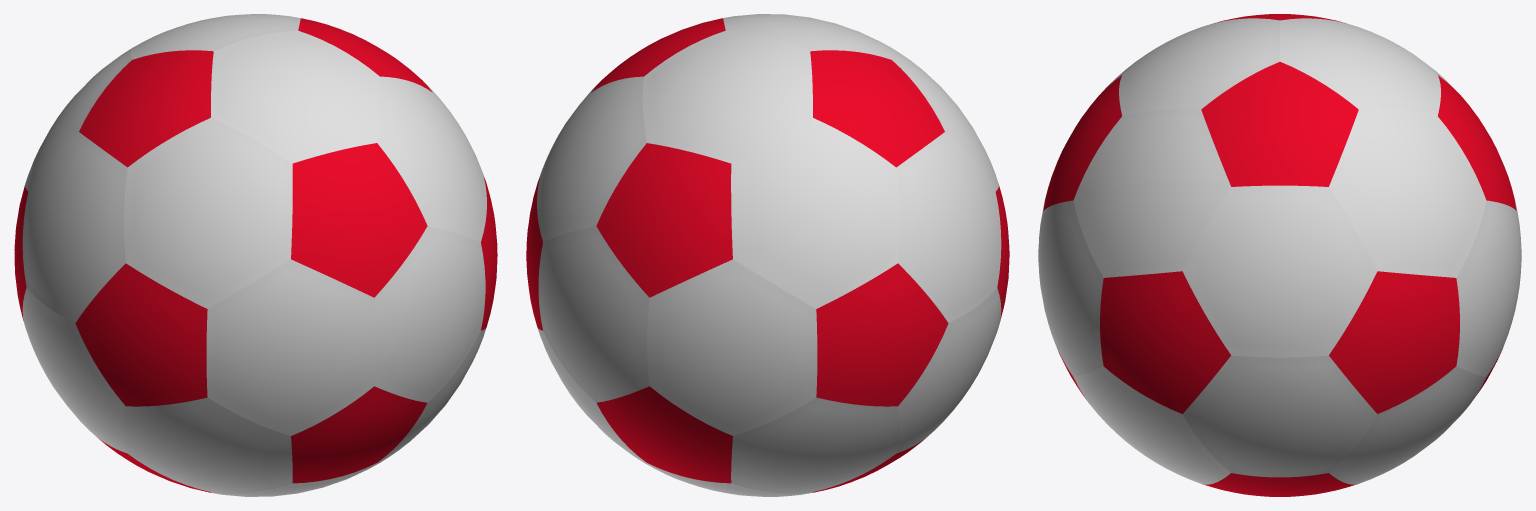
The model's file is football_2.glb.
The picture shows the model from 3 angles, left to right: view 1: azimuth 30°, elevation 25°; view 2: azimuth 150°, elevation 25°; view 3: azimuth 270°, elevation 25°; orthographic projection.
Visible parts, largest first — view 1: Solid; view 2: Solid; view 3: Solid.
Boxes of the visible parts, x1,y1,x2,y2 form: Solid: (14, 14, 497, 496); Solid: (526, 14, 1009, 496); Solid: (1038, 14, 1521, 496).
Size of the model in its own units: 1.68 by 1.68 by 1.68.
